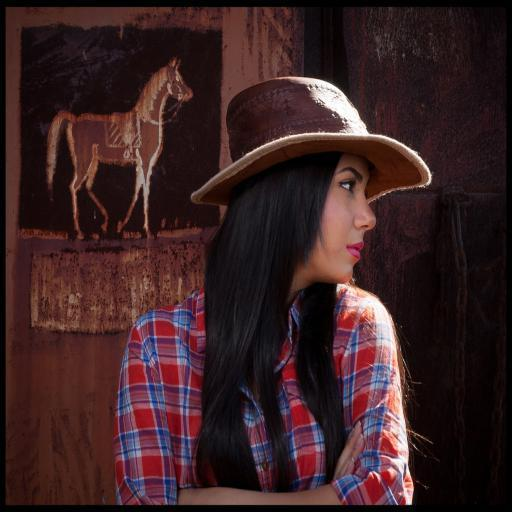horse: (38, 54, 196, 246)
